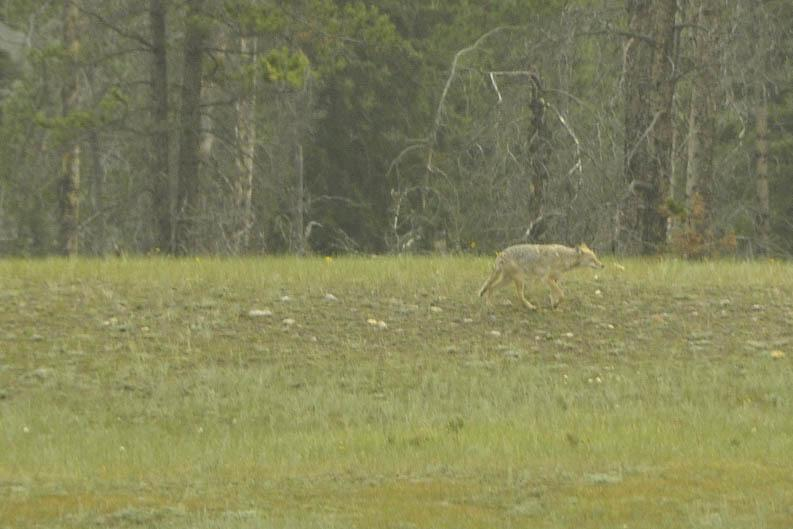Coyote: (474, 239, 608, 314)
